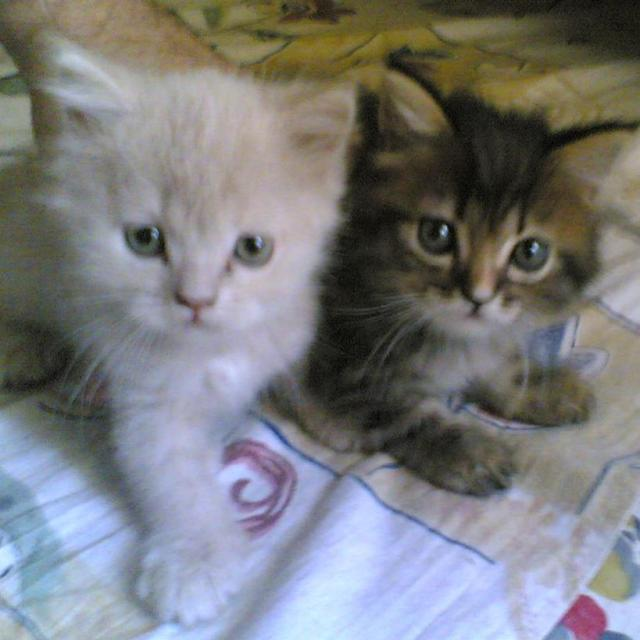Cat: (0, 32, 359, 626), (308, 45, 639, 496)
